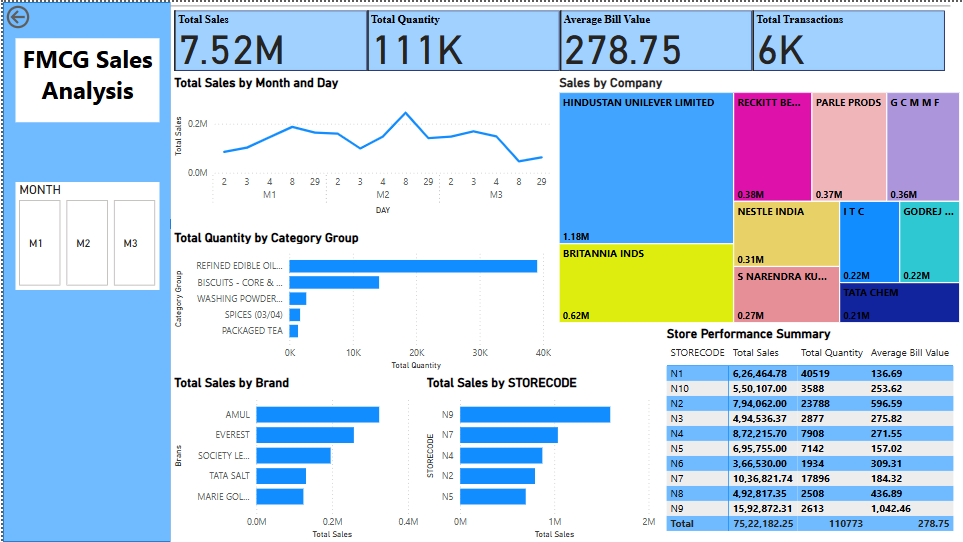

The dashboard page shown, as its layout file describes it:
{"tool":"powerbi","page":{"name":"Page 1","canvas":[1280,720],"ordinal":0},"visuals":[{"type":"shape","box":[0,0,224,720],"z":0},{"type":"cardVisual","fields":{"Data":["FMCG Data (2).Total Sales","FMCG Data (2).Total Quantity","FMCG Data (2).Average Bill Value","FMCG Data (2).Total Transactions"]},"box":[224,0,1040,96],"z":1000},{"type":"pivotTable","title":"Store Performance Summary","fields":{"Rows":["FMCG Data (2).STORECODE"],"Values":["FMCG Data (2).Total Sales","FMCG Data (2).Total Quantity","FMCG Data (2).Average Bill Value"]},"box":[880,432,400,288],"z":2000},{"type":"lineChart","title":"Total Sales by Month and Day","fields":{"Y":["FMCG Data (2).Total Sales"],"Category":["FMCG Data (2).MONTH","FMCG Data (2).DAY"]},"box":[224,96,512,192],"z":3000},{"type":"clusteredBarChart","fields":{"Category":["FMCG Data (2).STORECODE"],"Y":["FMCG Data (2).Total Sales"]},"box":[560,496,320,224],"z":4000},{"type":"actionButton","box":[0,0,100,40],"z":5000},{"type":"clusteredBarChart","title":"Total Sales by Brand","fields":{"Category":["FMCG Data (2).Brans"],"Y":["FMCG Data (2).Total Sales"]},"box":[224,496,336,224],"z":6000},{"type":"clusteredBarChart","fields":{"Category":["FMCG Data (2).Category Group"],"Y":["FMCG Data (2).Total Quantity"]},"box":[224,304,512,192],"z":7000},{"type":"textbox","box":[16,48,192,112],"z":8000},{"type":"treemap","title":"Sales by Company","fields":{"Group":["FMCG Data (2).Cmpany"],"Values":["FMCG Data (2).Total Sales"]},"box":[736,96,544,336],"z":9000},{"type":"advancedSlicerVisual","fields":{"Values":["FMCG Data (2).MONTH"]},"box":[16,240,192,144],"z":10000}]}

Visuals, with their boxes in screenshot pixels (x1, y1, x2, y2), scaled from the page's 1280x720 canvas onto the 963x542 screenshot:
shape: <region>0, 0, 169, 541</region>
cardVisual - FMCG Data (2).Total Sales x FMCG Data (2).Total Quantity: <region>169, 0, 951, 72</region>
"Store Performance Summary" pivotTable: <region>662, 325, 962, 541</region>
"Total Sales by Month and Day" lineChart: <region>169, 72, 554, 217</region>
clusteredBarChart - FMCG Data (2).STORECODE x FMCG Data (2).Total Sales: <region>421, 373, 662, 541</region>
actionButton: <region>0, 0, 75, 30</region>
"Total Sales by Brand" clusteredBarChart: <region>169, 373, 421, 541</region>
clusteredBarChart - FMCG Data (2).Category Group x FMCG Data (2).Total Quantity: <region>169, 229, 554, 373</region>
textbox: <region>12, 36, 156, 120</region>
"Sales by Company" treemap: <region>554, 72, 962, 325</region>
advancedSlicerVisual - FMCG Data (2).MONTH: <region>12, 181, 156, 289</region>
